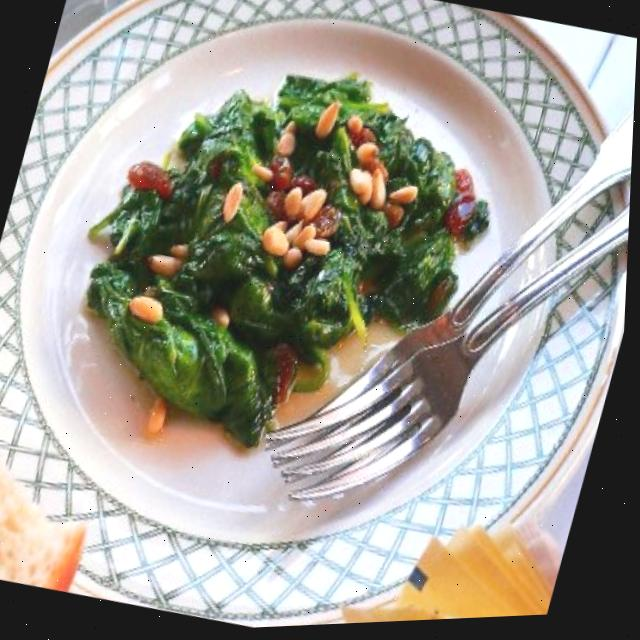蔬菜料理: (12, 0, 565, 534)
